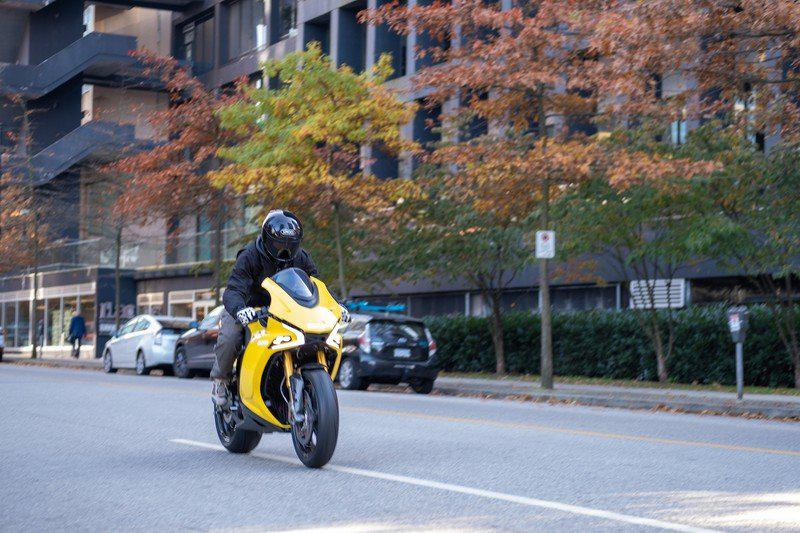Car: (84, 289, 209, 385), (323, 303, 442, 393)
motorcycle: (204, 261, 355, 473)
